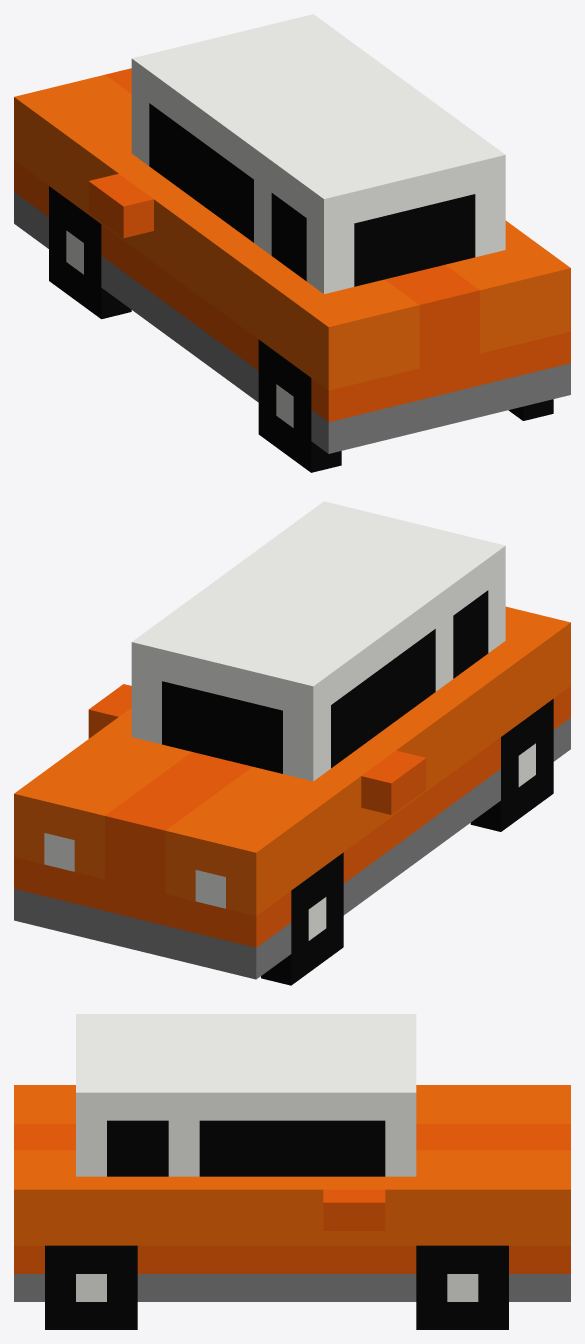
The model's file is Car0.obj.
The picture shows the model from 3 angles, top to bottom: view 1: azimuth 30°, elevation 25°; view 2: azimuth 150°, elevation 25°; view 3: azimuth 270°, elevation 25°; orthographic projection. The views are drawn at different scales.
Size of the model in its own units: 1 by 0.8 by 1.8.
1 material, 1 textured.
